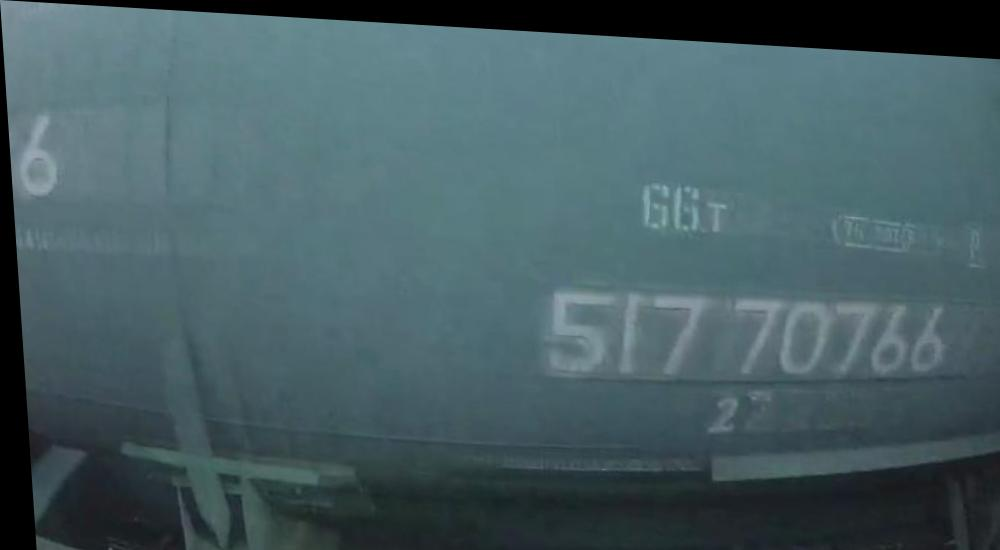Wagon-number: (532, 272, 956, 391)
